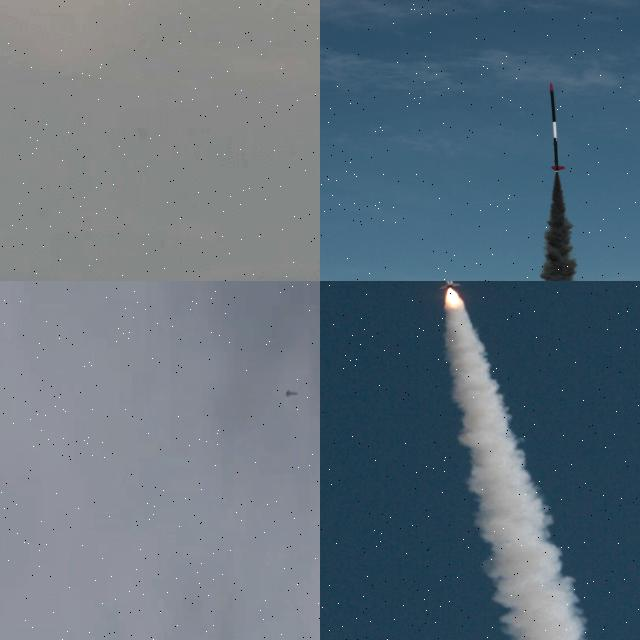Rocket: (548, 81, 566, 173), (438, 281, 461, 292), (286, 389, 298, 398)
